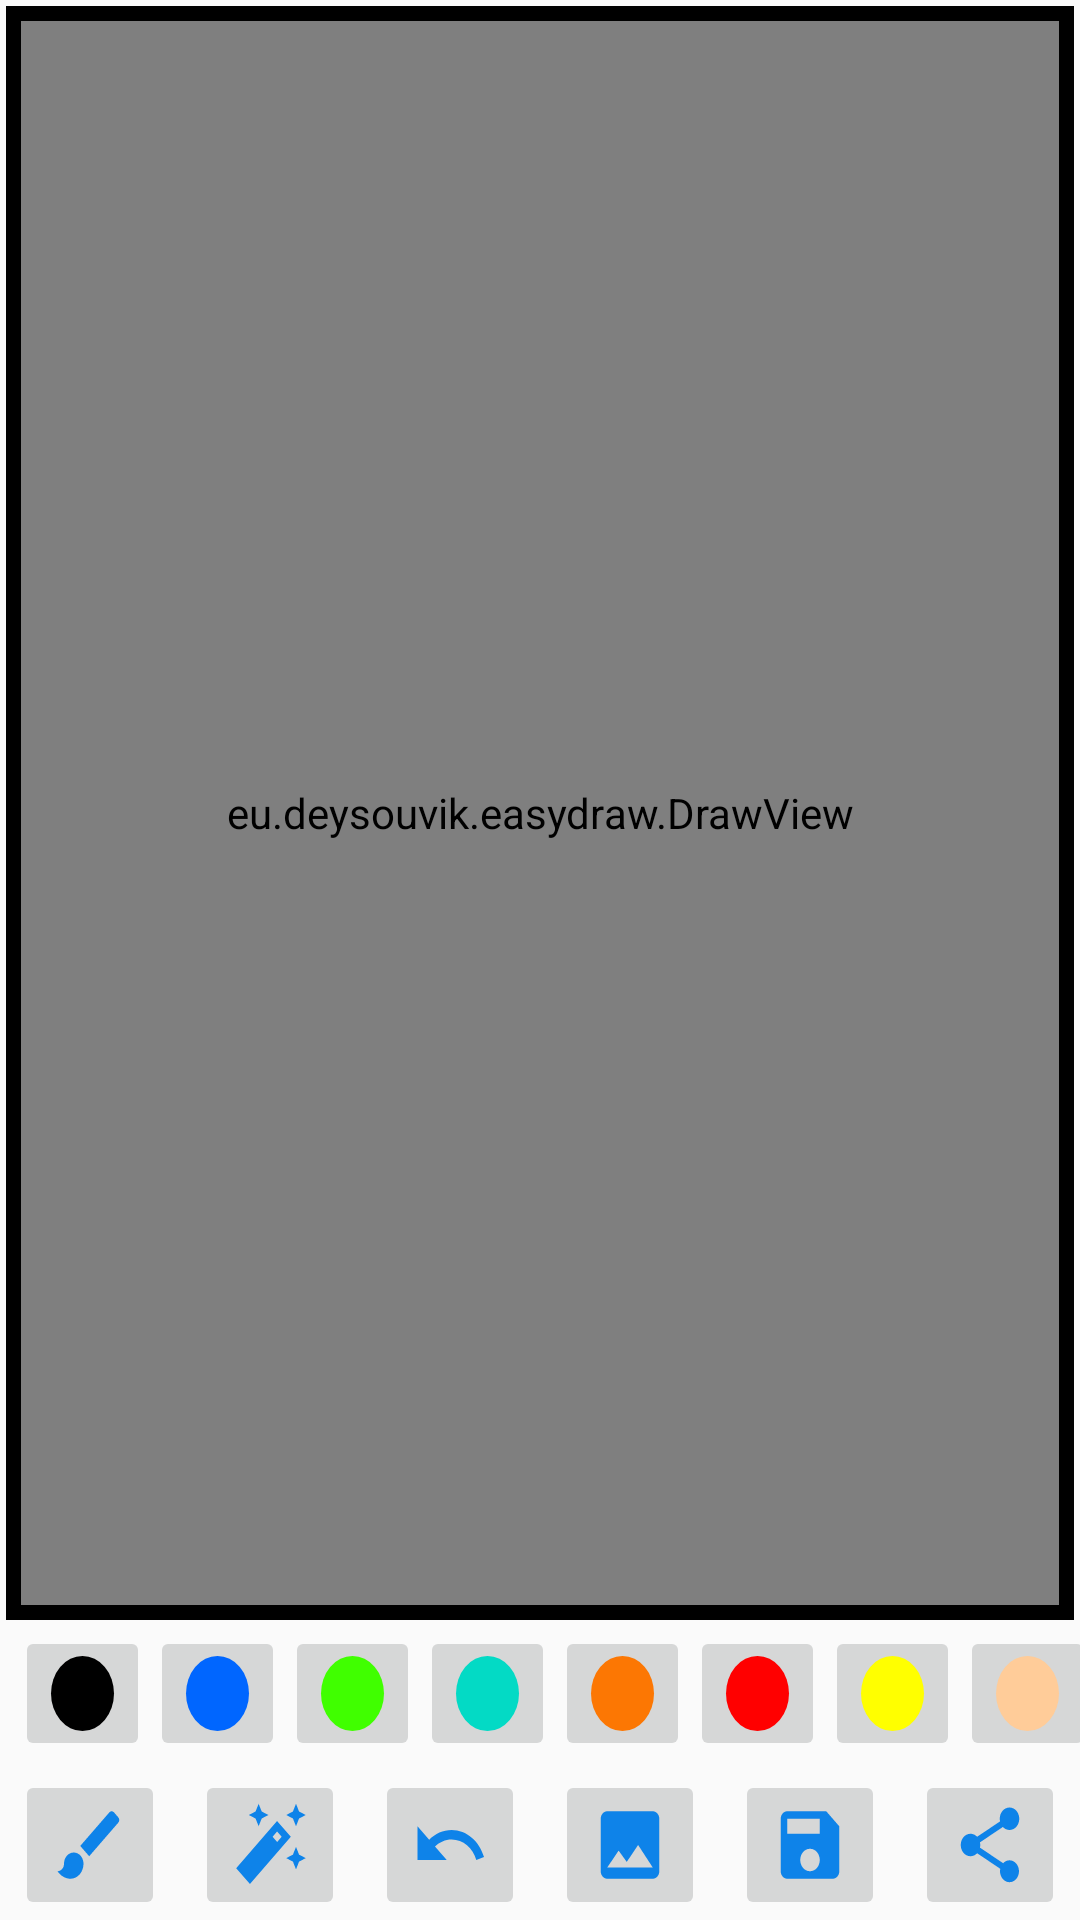

Icons on this 1080x1920 Android screen, each with the point to tap as (x=x, y=y):
Brush Size: (x=90, y=1845)
Gallery: (x=630, y=1845)
Save: (x=810, y=1845)
Share: (x=990, y=1845)
Undo: (x=450, y=1845)
